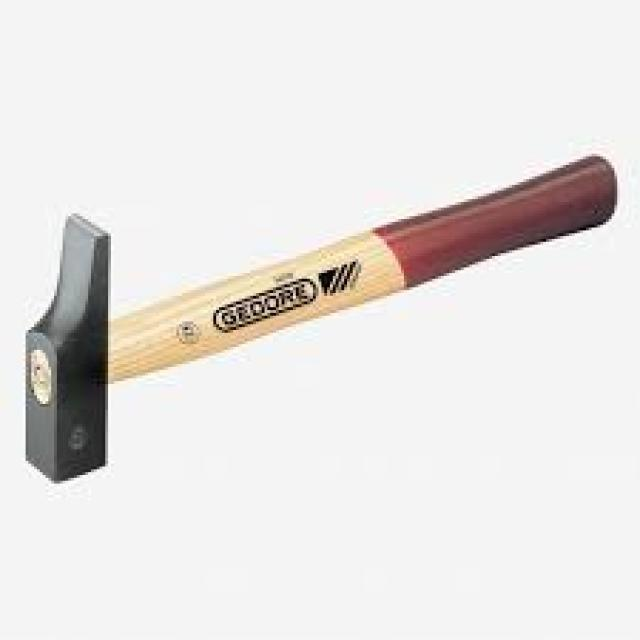Palu: (17, 146, 615, 492)
